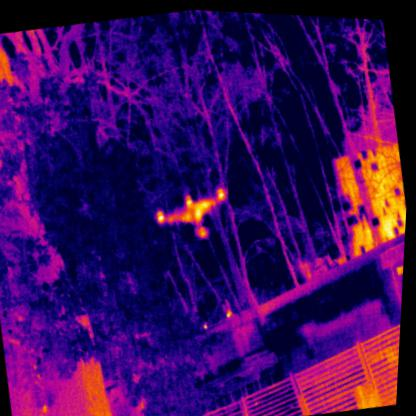drone: (151, 179, 234, 244)
